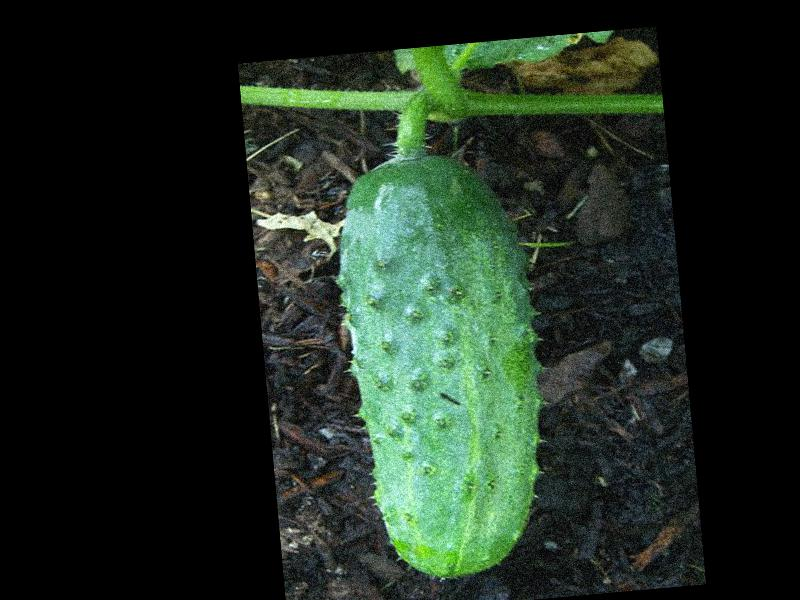Cucumber: (329, 145, 559, 587)
